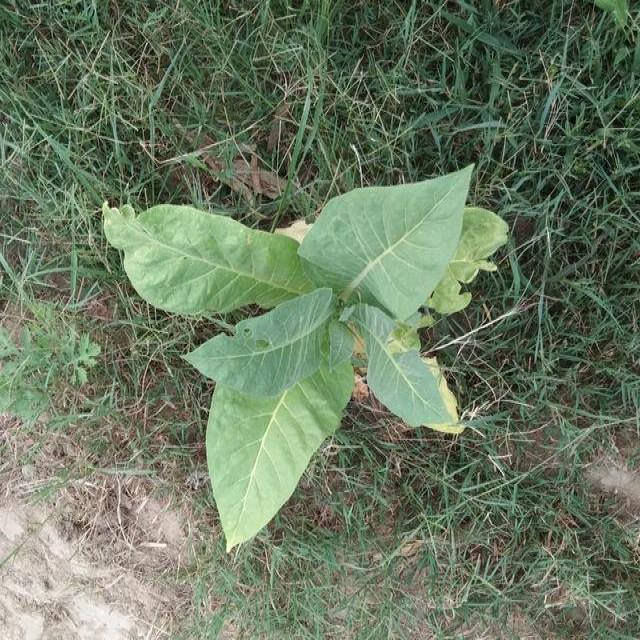crop: (98, 154, 510, 558)
